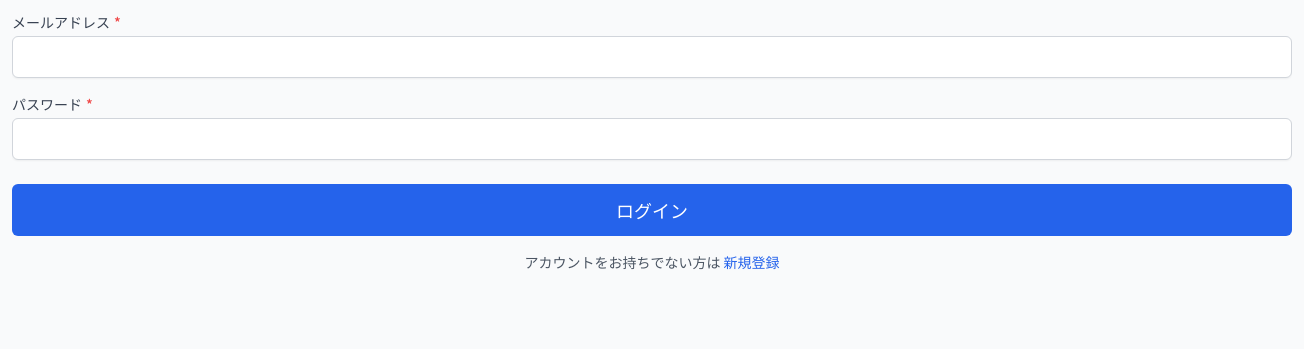
LoginForm › 認証失敗（401）のとき適切なエラーメッセージが表示される（Requirement 2.2）
The image size is (1304, 349).
Type "user@example.com" into the field labelled "メールアドレス*" at (652, 57), box [12,36,1292,78]
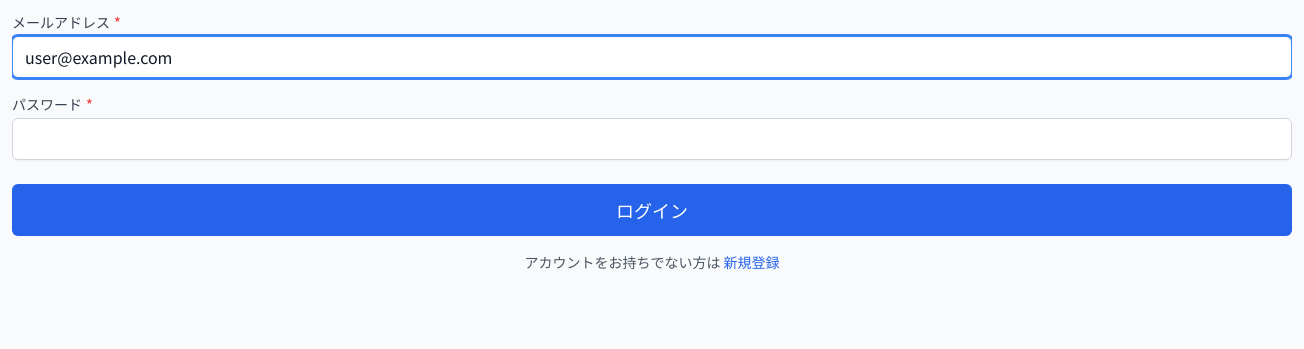
Type "wrongpassword" into the password field labelled "パスワード*" at (652, 139), box [12,118,1292,160]
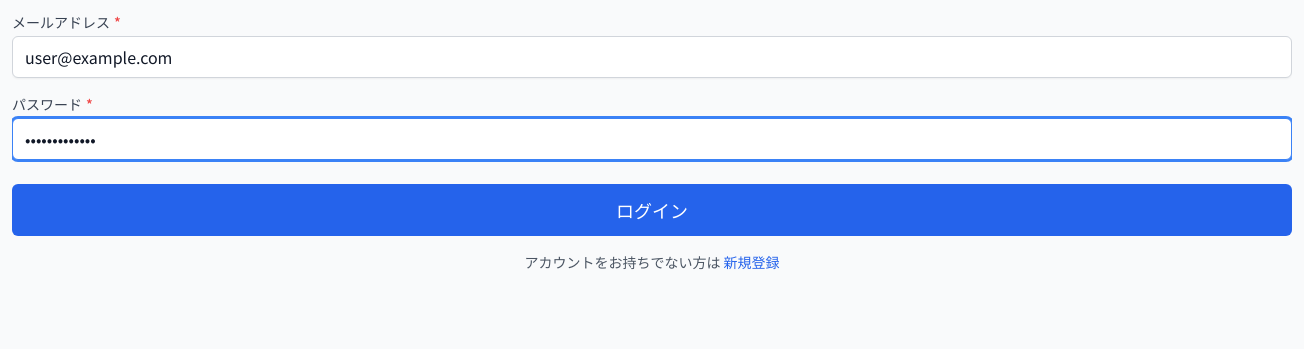
Click the button "ログイン" at (652, 210), box [12,184,1292,236]
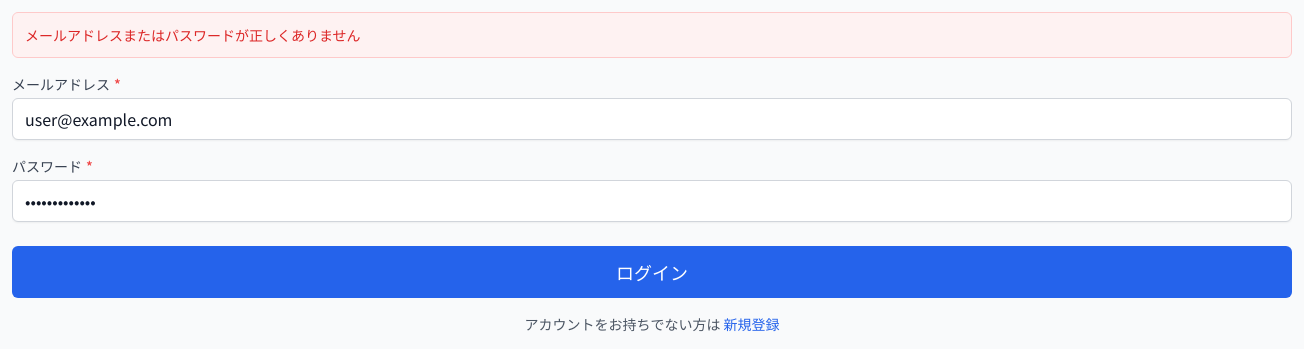
Check: the text "メールアドレスまたはパスワードが正しくありません" is shown, box [12,12,1292,58]
